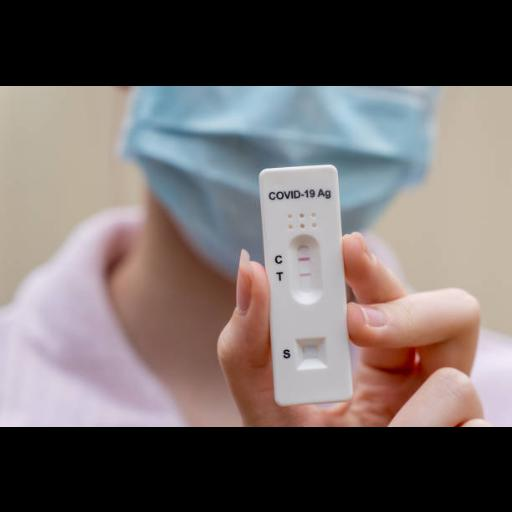Pos: (259, 164, 353, 405)
